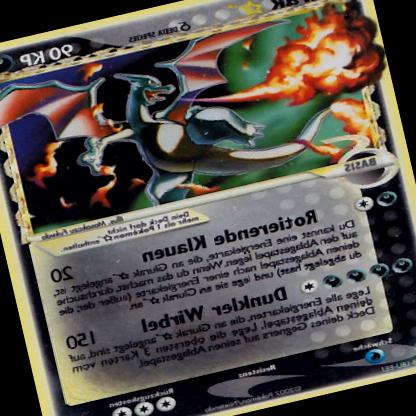Charizard: (4, 10, 372, 225)
